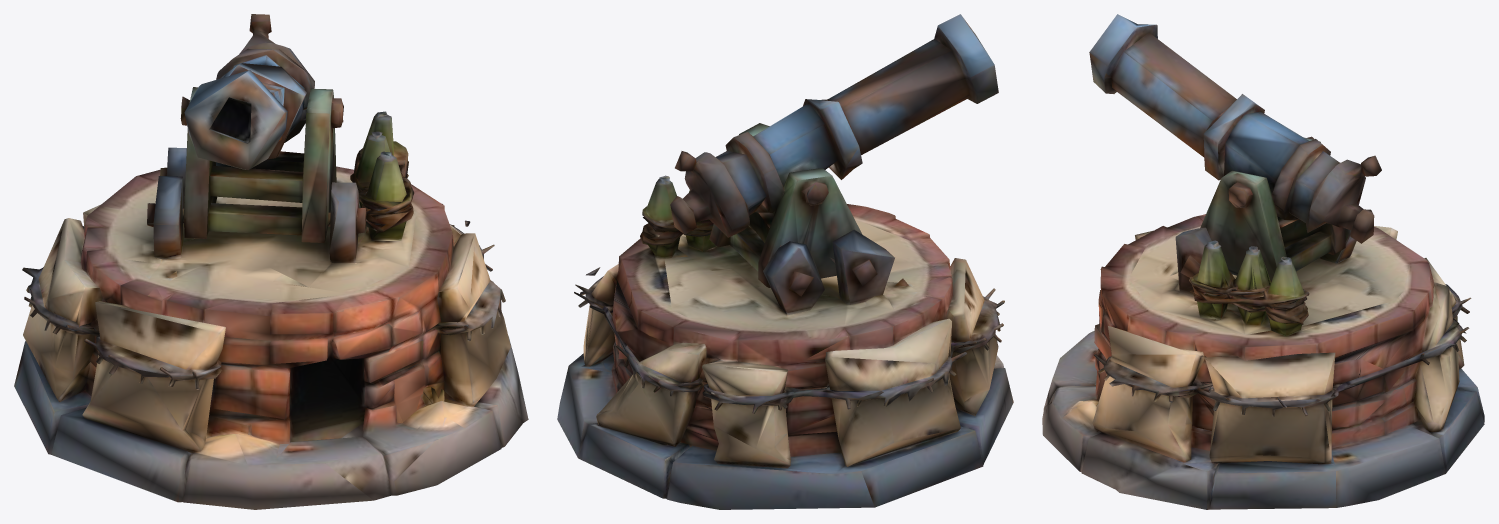
File: paota-1.glb
3 renders of one model, left to right at view 1: azimuth 30°, elevation 25°; view 2: azimuth 150°, elevation 25°; view 3: azimuth 270°, elevation 25°, orthographic. The views are drawn at different scales.
Visible parts, largest first — view 1: node_0; view 2: node_0; view 3: node_0.
Part boxes in pixels (x1,y1,x2,y2): node_0: [14, 14, 528, 509]; node_0: [557, 14, 1013, 509]; node_0: [1042, 14, 1484, 509].
Size of the model in its own units: 0.8693 by 0.7952 by 0.8865.
1 material, 1 textured.
